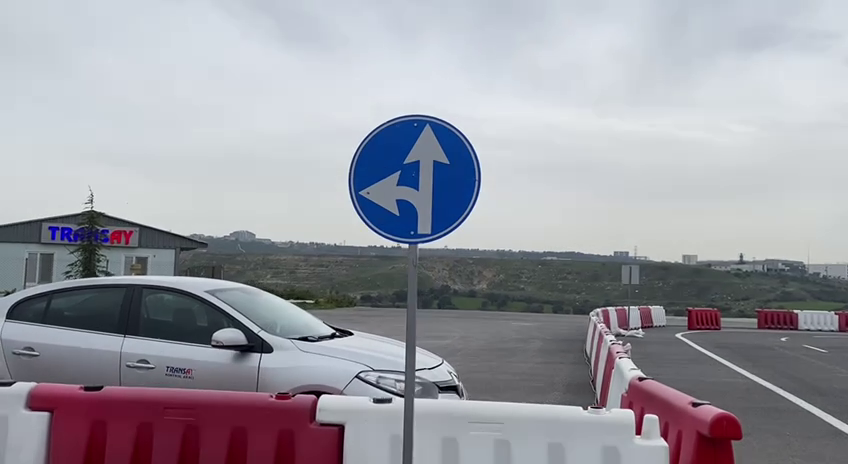forwardAndLeft: (345, 111, 485, 247)
